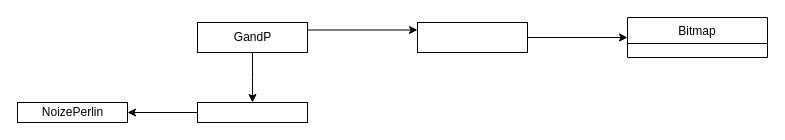
The diagram is 785 pixels wide and 140 high, and some of its shapes have lost their labels. Here are the shapes that lost their labels. From the top down, the centre of each, then its label:
[472,37]: Drawer z-buffer
[252,112]: Generator
